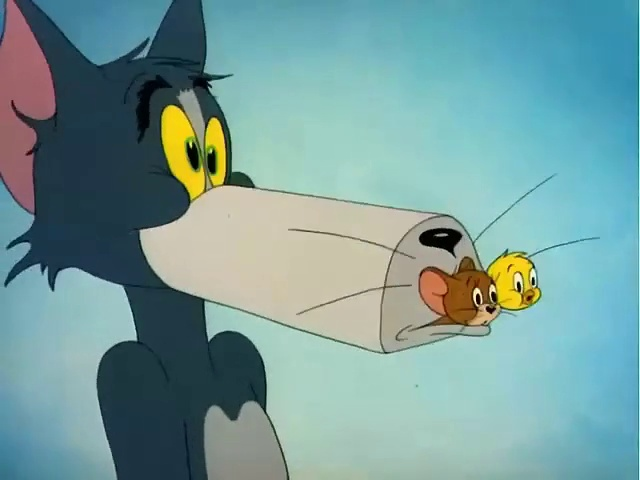jerry: (408, 253, 519, 341)
tom: (6, 25, 562, 400)
